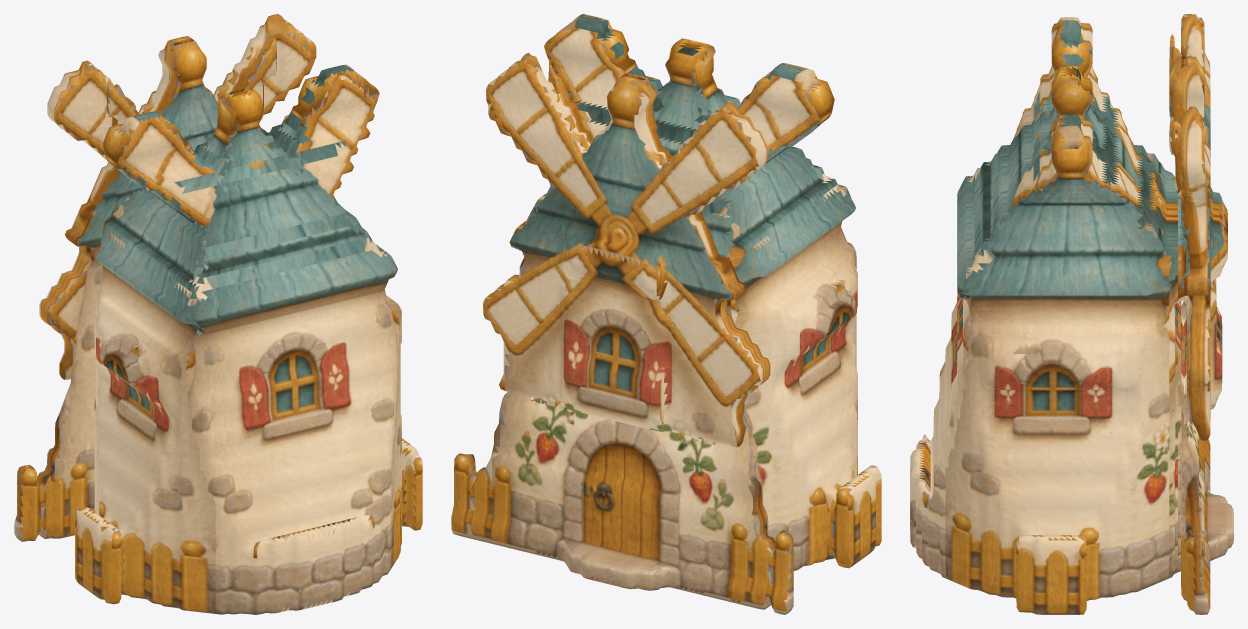
The model's file is windmill.glb.
3 views of the same model, side by side, from view 1: azimuth 30°, elevation 25°; view 2: azimuth 150°, elevation 25°; view 3: azimuth 270°, elevation 25° (orthographic). The views are drawn at different scales.
Bounding box in the file's own units: 0.7197 × 1 × 0.6179.
1 material, 1 textured.
